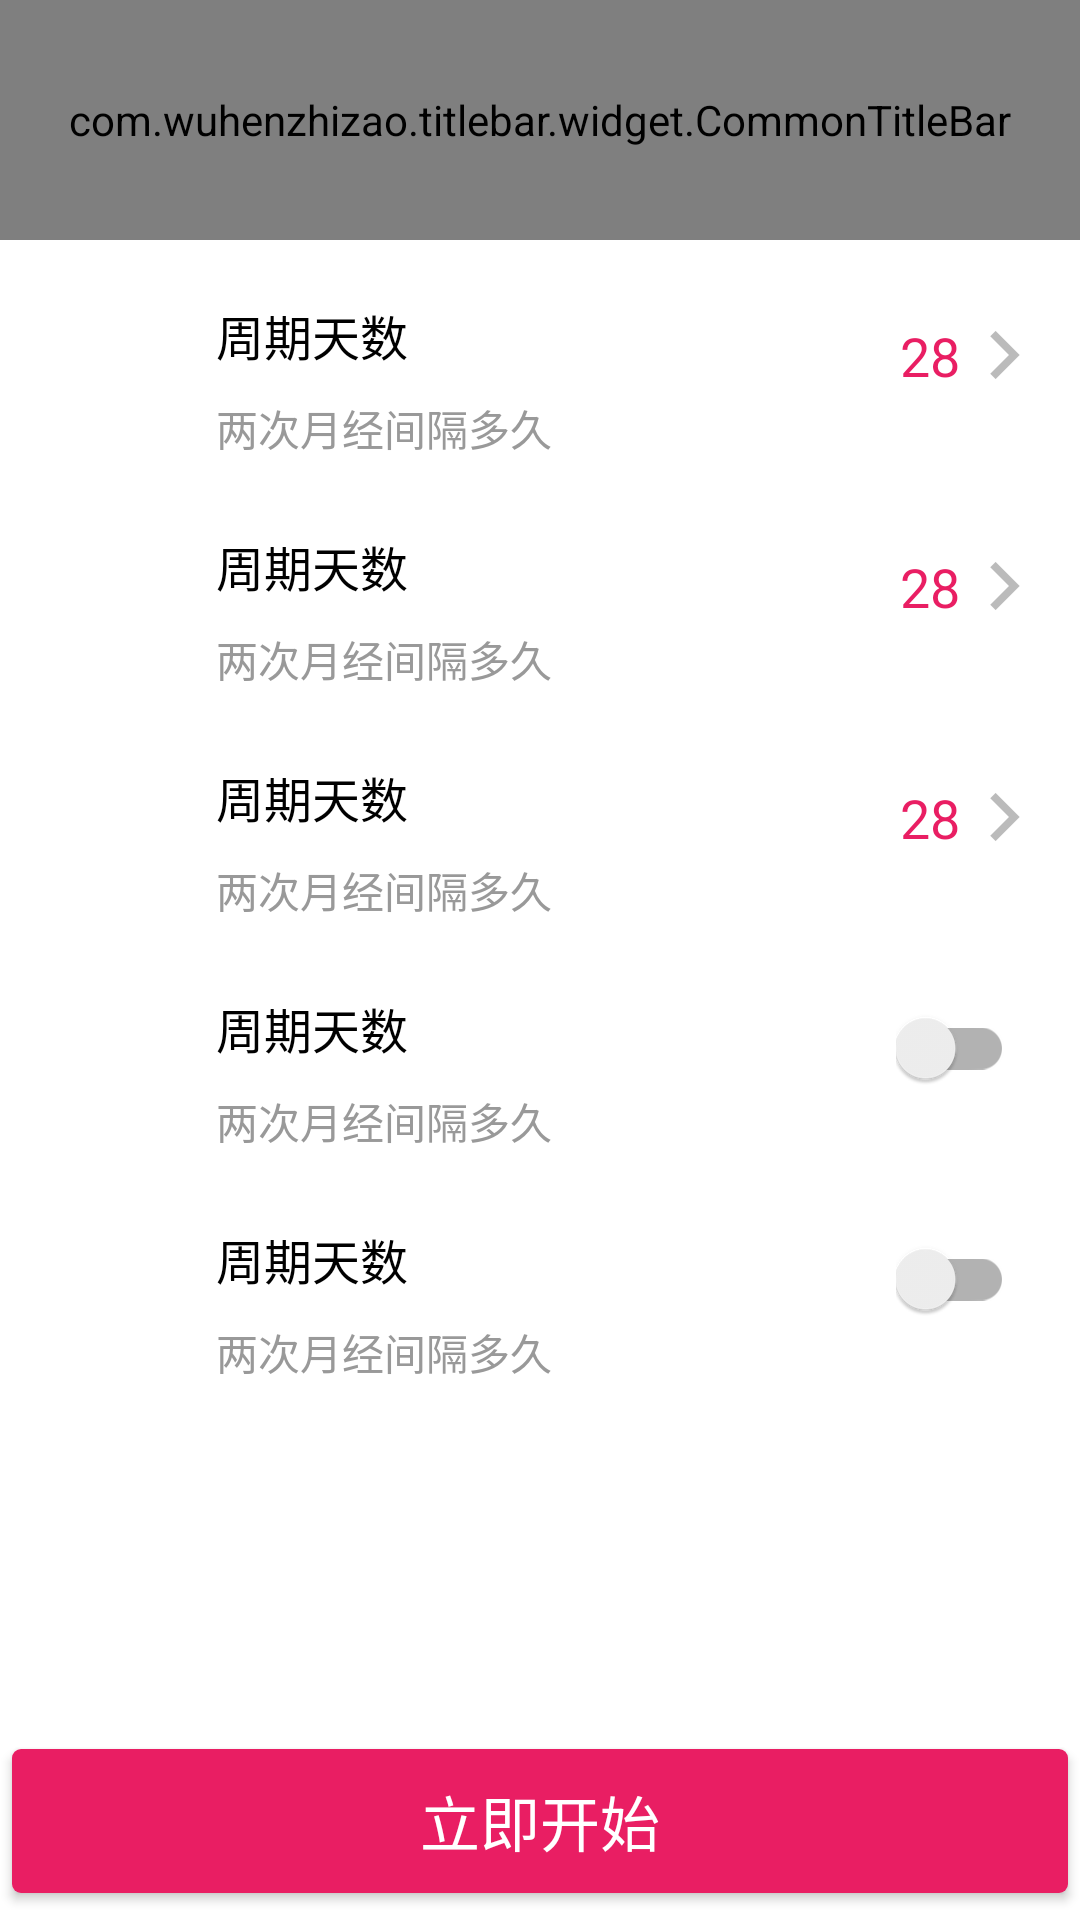

Icon bounding boxes for this 1080x1920 phone screenshot, format (x1, y1, x2, y2):
forward: (990, 331, 1019, 379), (990, 562, 1019, 610), (990, 793, 1019, 841)
